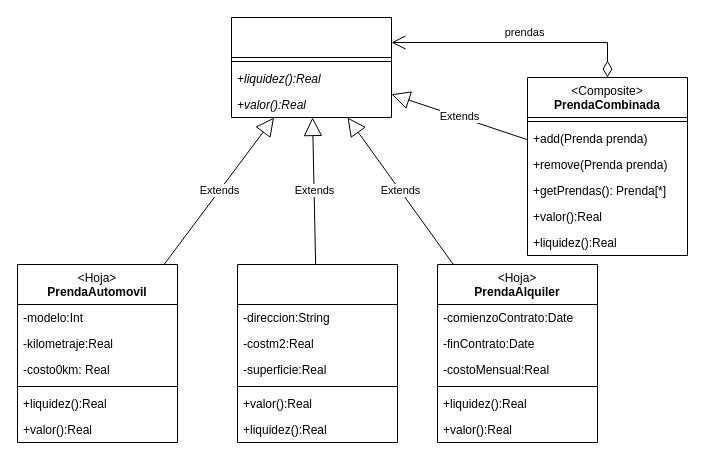
The diagram is 705 pixels wide and 463 high, and some of its shapes have lost their labels. Each missing label, with the box of its shape:
<Componente> Prenda: (230, 16, 392, 118)
<Hoja> PrendaInmueble: (236, 264, 398, 442)
